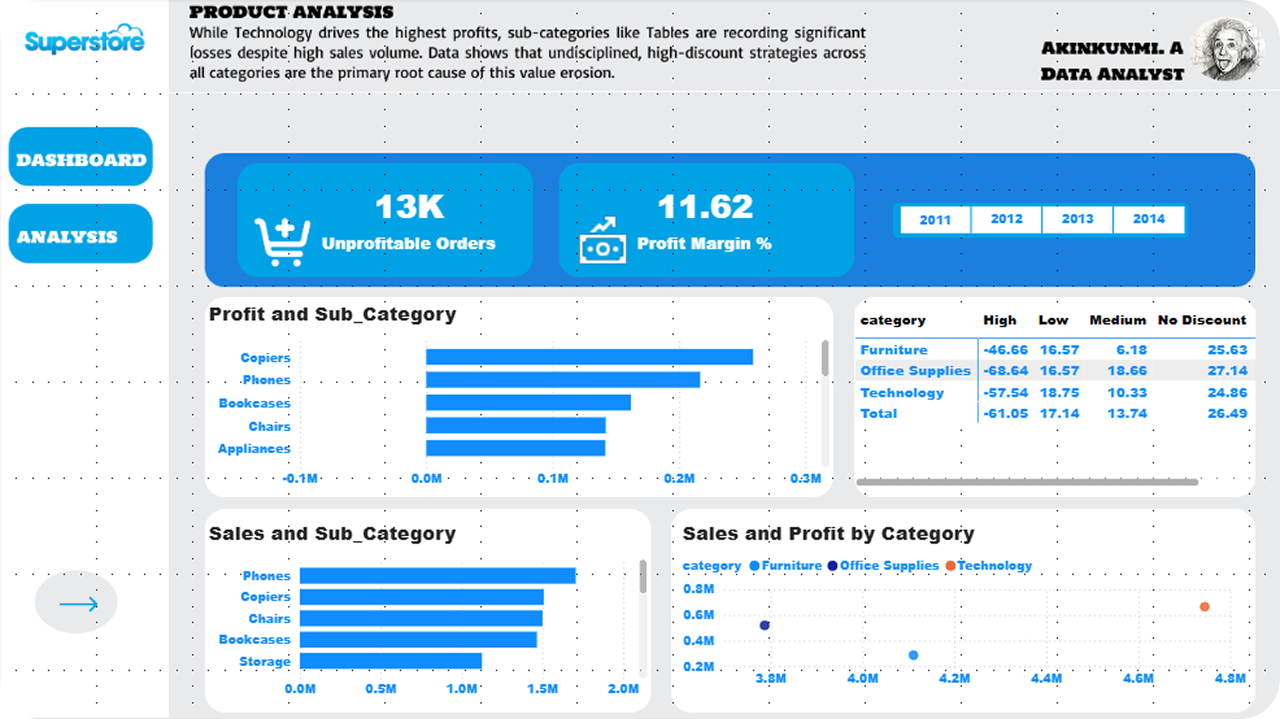

The dashboard page shown, as its layout file describes it:
{"tool":"powerbi","page":{"name":"Product Analysis","canvas":[1280,720],"ordinal":1},"visuals":[{"type":"card","fields":{"Values":["Table.Unprofitable Orders"]},"box":[303.3,172.5,210.1,96],"z":0},{"type":"card","fields":{"Values":["Table.Profit Margin %"]},"box":[599.7,172.5,210.1,96],"z":1000},{"type":"slicer","fields":{"Values":["Orders.order_date.Variation.Date Hierarchy.Year"]},"box":[873.7,201.7,332.5,37.6],"z":2000},{"type":"barChart","title":"Profit and Sub_Category","fields":{"Category":["Orders.sub_category"],"Y":["Sum(Orders.profit)"]},"box":[203.1,301.9,630.3,197.6],"z":3000},{"type":"barChart","title":"Sales and Sub_Category","fields":{"Category":["Orders.sub_category"],"Y":["Sum(Orders.sales)"]},"box":[203.1,521.7,448,189.2],"z":4000},{"type":"scatterChart","title":"Sales and Profit by Category","fields":{"X":["Sum(Orders.sales)"],"Y":["Sum(Orders.profit)"],"Series":["Orders.category"]},"box":[677.6,521.7,573.2,178.1],"z":5000},{"type":"pivotTable","fields":{"Rows":["Orders.category"],"Columns":["Orders.discount_band"],"Values":["Avg(Orders.profit_margin_pct)"]},"box":[849.7,306.2,409.9,188.1],"z":6000}]}

Visuals, with their boxes in screenshot pixels (x1, y1, x2, y2), scaled from the page's 1280x720 canvas onto the 1280x719 screenshot:
card - Table.Unprofitable Orders: l=303, t=172, r=513, b=268
card - Table.Profit Margin %: l=600, t=172, r=810, b=268
slicer - Orders.order_date.Variation.Date Hierarchy.Year: l=874, t=201, r=1206, b=239
"Profit and Sub_Category" barChart: l=203, t=301, r=833, b=499
"Sales and Sub_Category" barChart: l=203, t=521, r=651, b=710
"Sales and Profit by Category" scatterChart: l=678, t=521, r=1251, b=699
pivotTable - Orders.category x Orders.discount_band: l=850, t=306, r=1260, b=494
